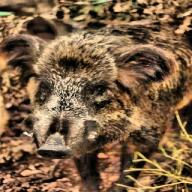boar: (0, 18, 191, 192)
